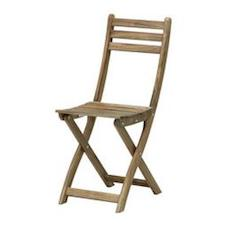chair: (10, 6, 211, 215)
